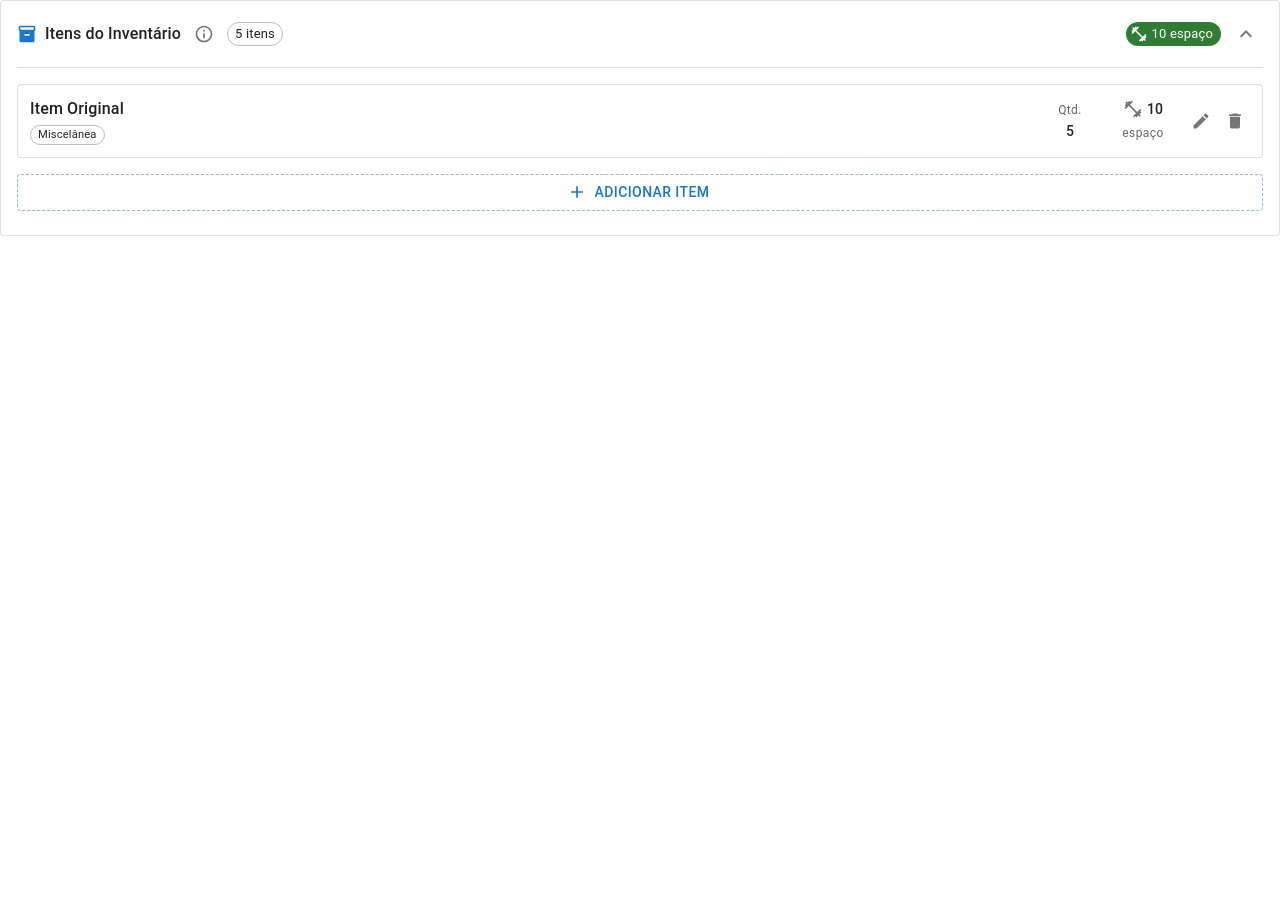
InventoryList › Editar item › deve preencher diálogo com dados do item ao editar
Click the button named "editar item original".
click(1201, 121)  # box top-left (1186, 106), bottom-right (1216, 136)
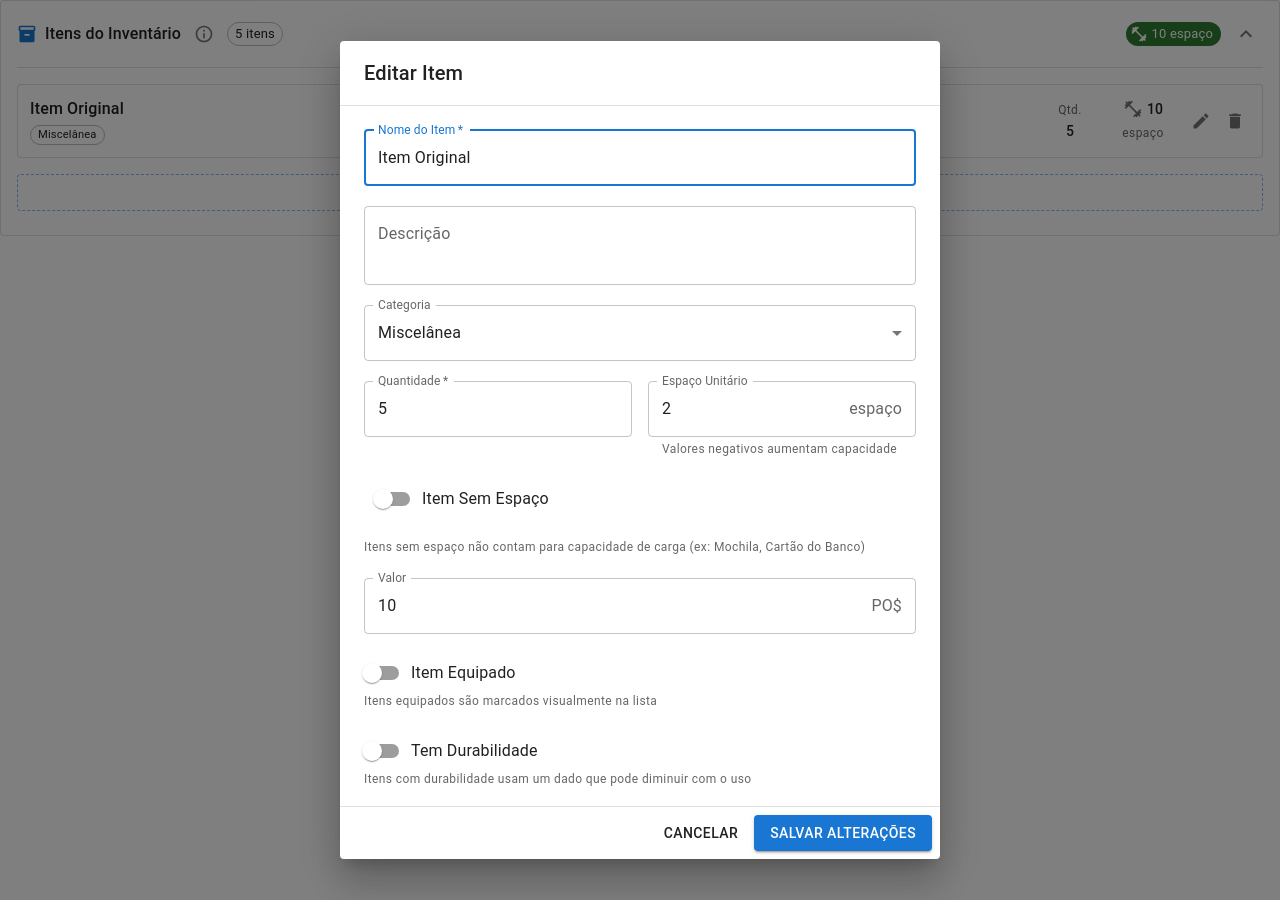
Expected: the field labelled "Nome do Item *" holds "Item Original", top-left (364, 130), bottom-right (916, 186)
Expected: the number field labelled "Quantidade *" holds "5", top-left (364, 381), bottom-right (632, 437)
